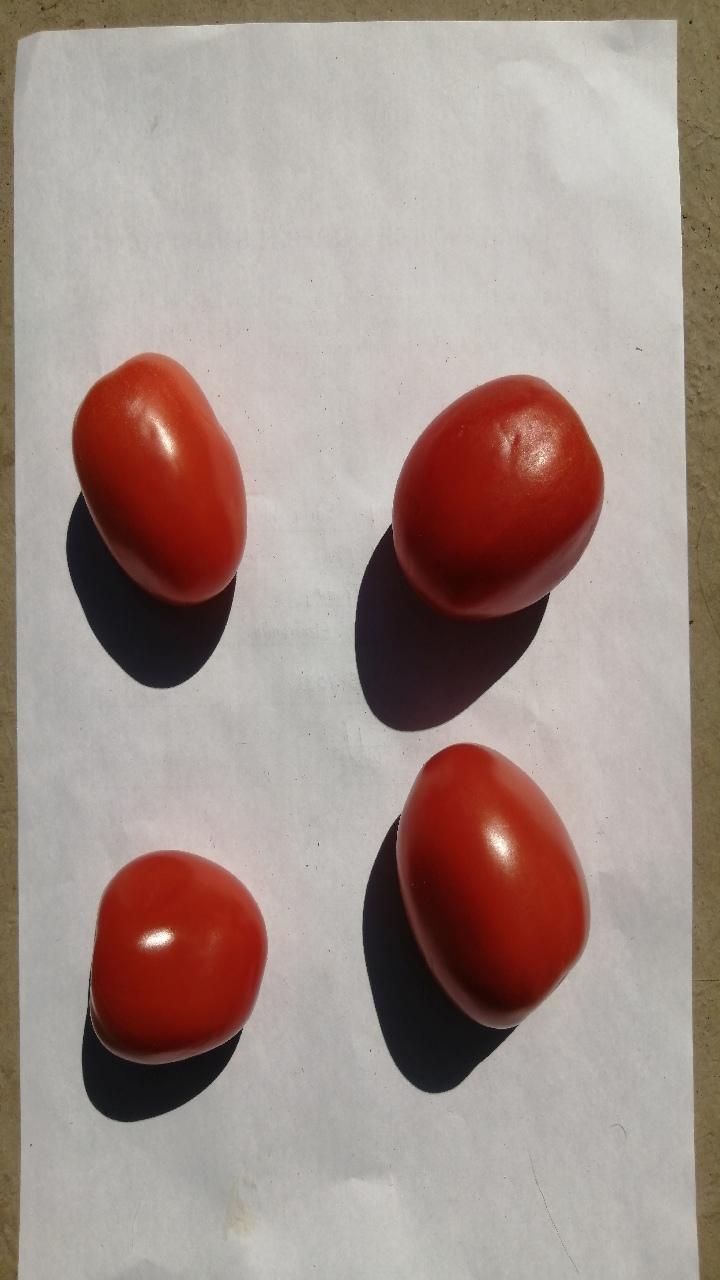tomateRojo: (391, 714, 606, 1042), (378, 354, 618, 622), (52, 328, 258, 623), (60, 828, 281, 1077)
